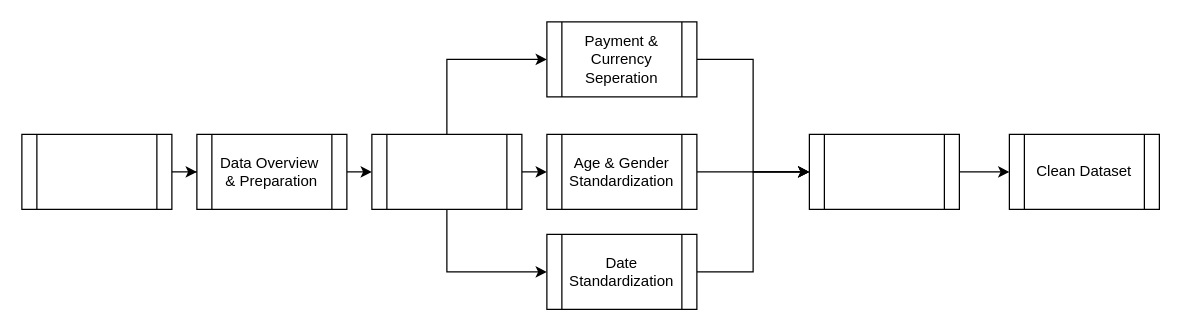
The diagram is 1181 pixels wide and 331 high, and some of its shapes have lost their labels. Each missing label, with the centre of its shape:
Column Consolidation: the point at 883,171
Consolidating Trapped Data: the point at 446,171
Parsing Raw Dataset: the point at 96,171
